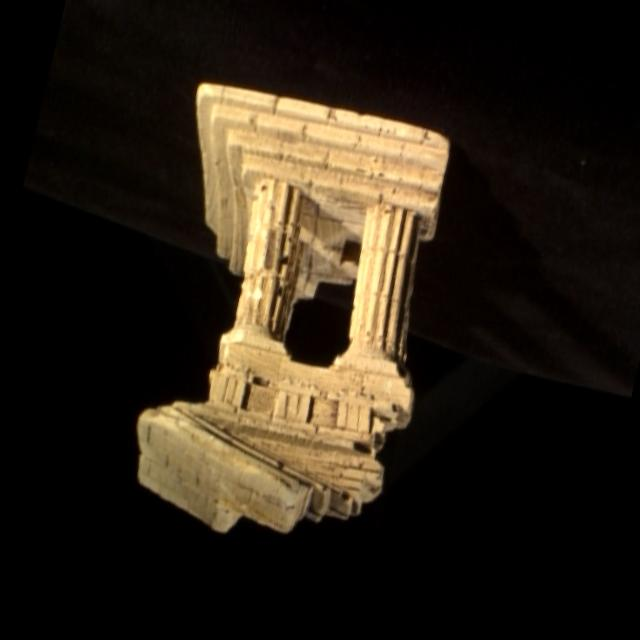Instance-Segmentation: (138, 81, 448, 530)
